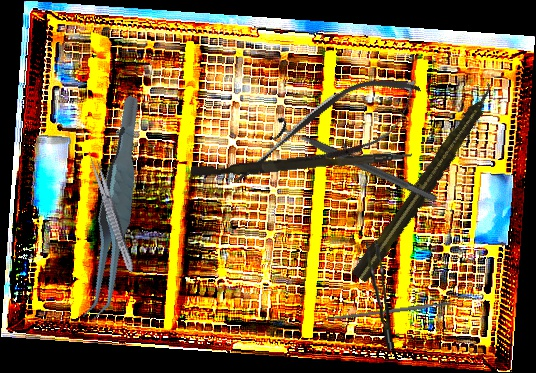Dressing Forceps: (85, 153, 139, 276)
Fixation Ring: (268, 114, 442, 212)
Handpiece: (349, 79, 503, 285)
Micro Scissor: (219, 58, 435, 208)
Pusher: (190, 143, 413, 183)
Scalpel Handle: (323, 301, 453, 322)
Tissue Forceps: (43, 94, 186, 325), (366, 239, 394, 351)
